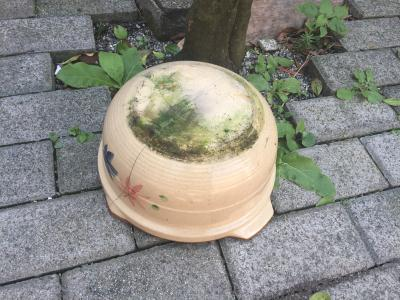bowl: (92, 57, 284, 244)
